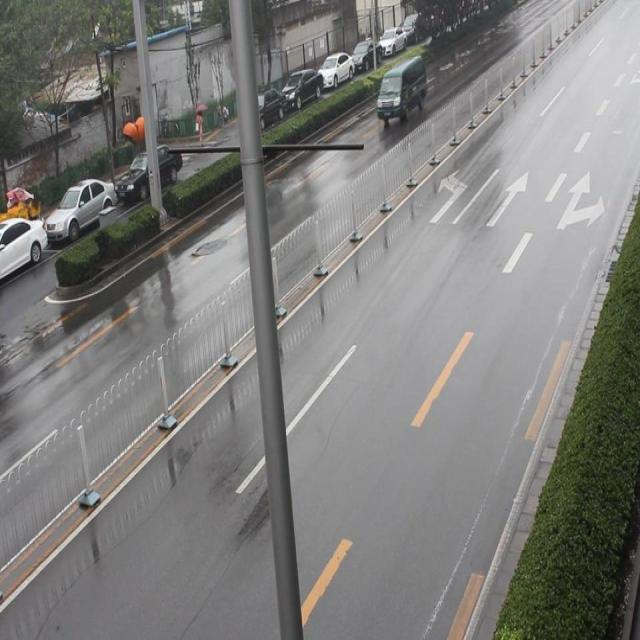truck: (376, 57, 427, 122)
